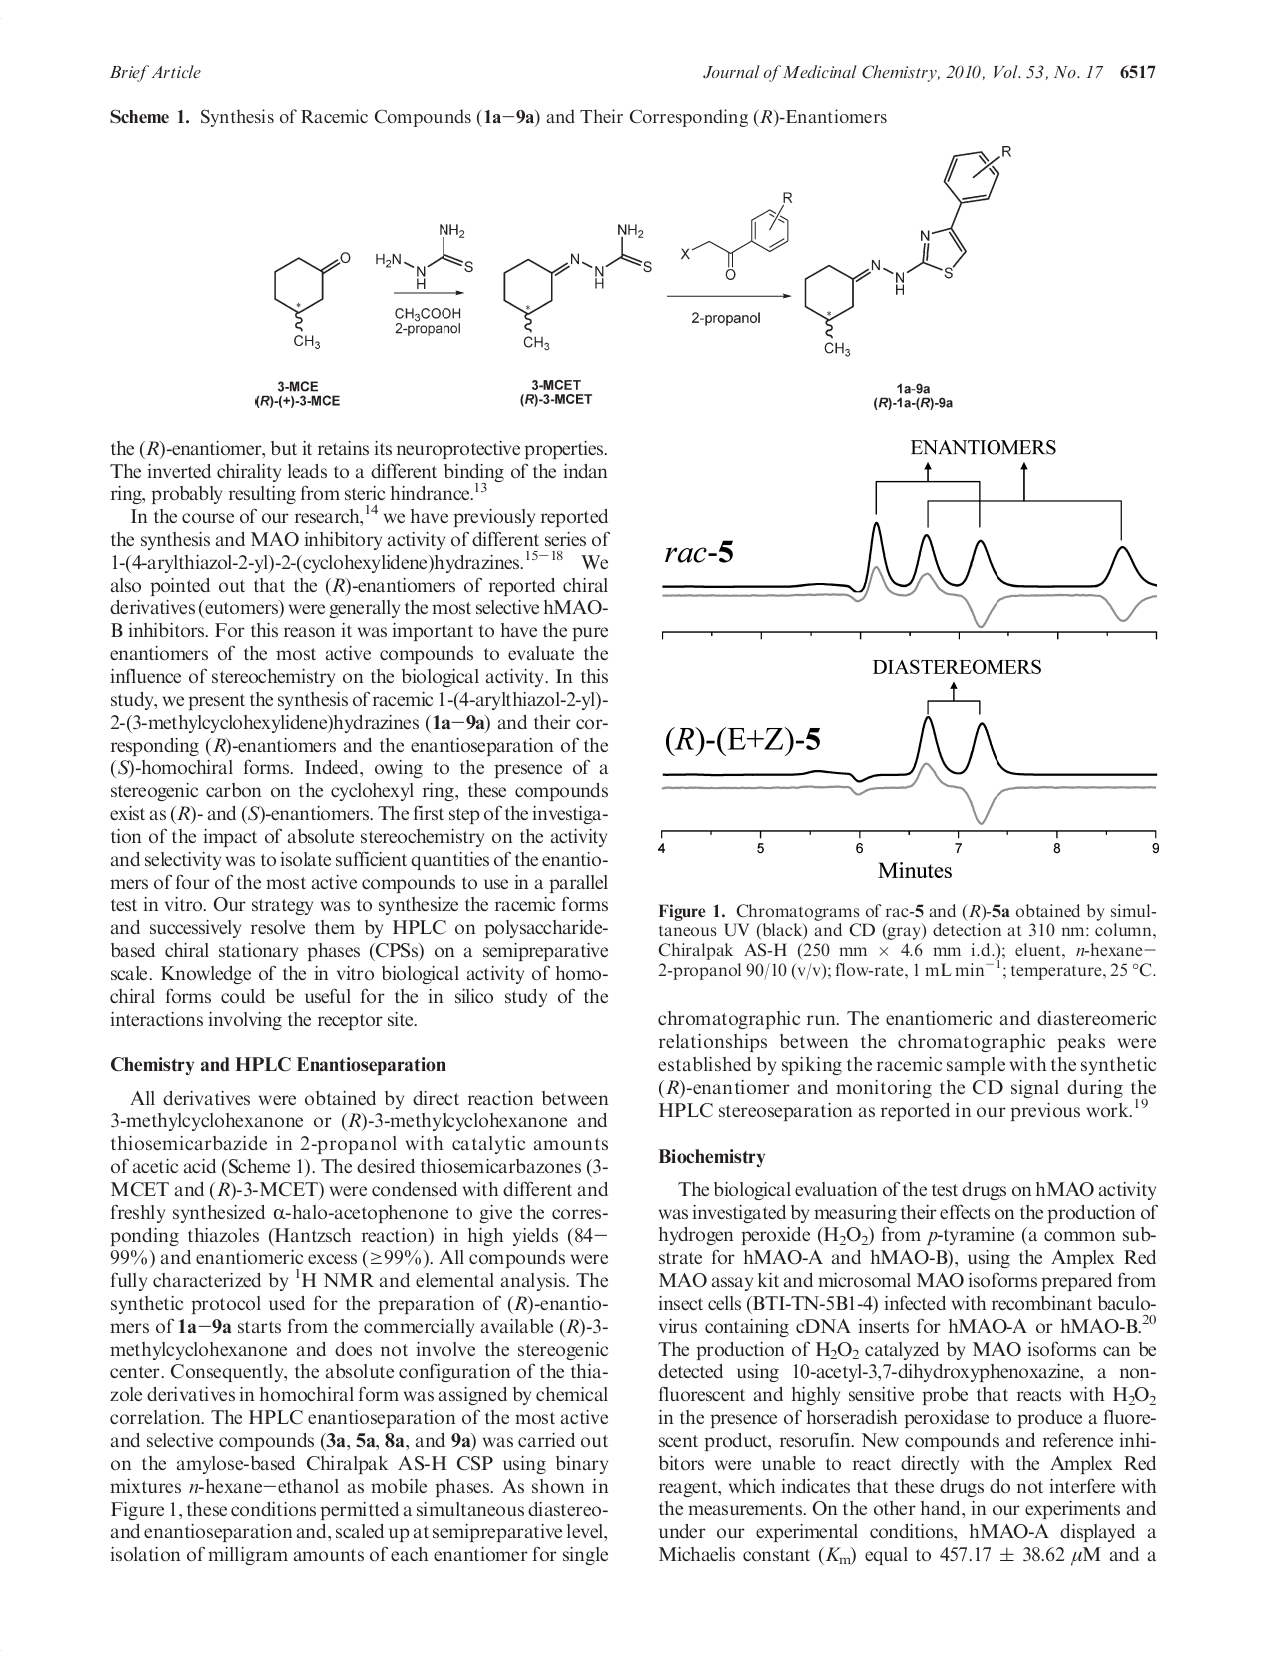exist_molecular: (805, 138, 1016, 364), (493, 219, 658, 350), (677, 182, 799, 279), (266, 246, 354, 351), (375, 219, 477, 289)
